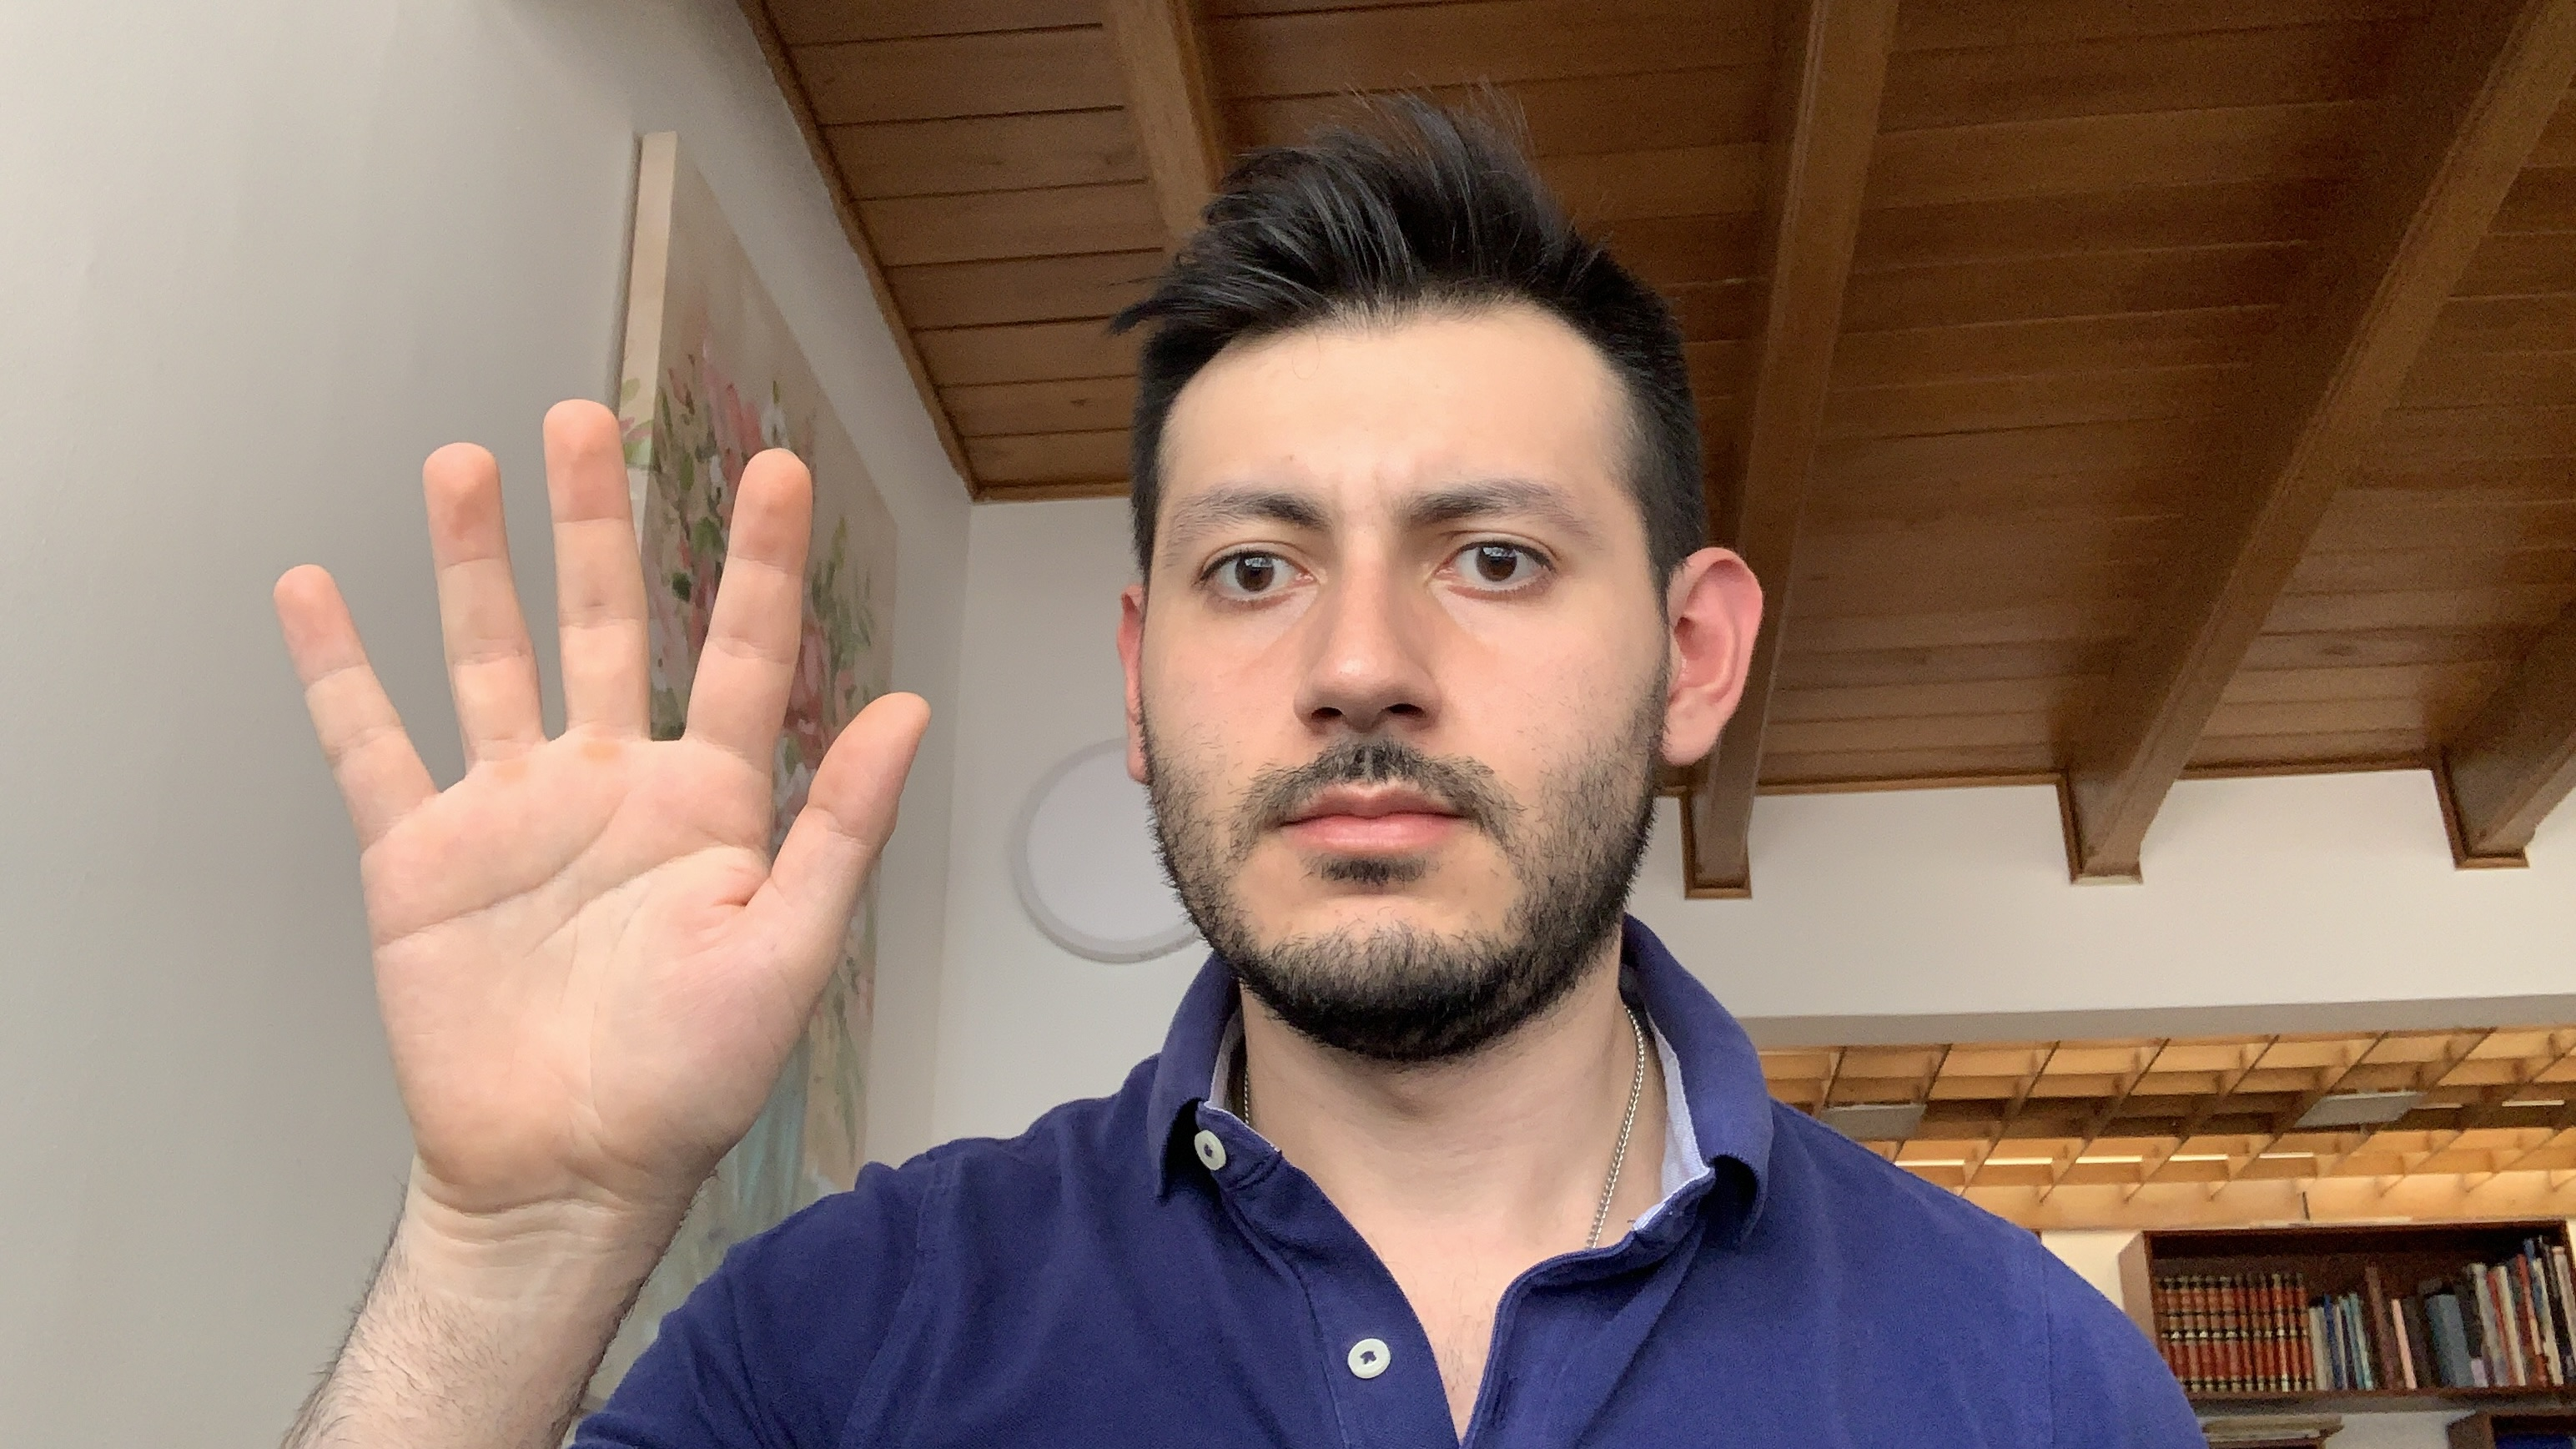Hello: (239, 387, 957, 1277)
